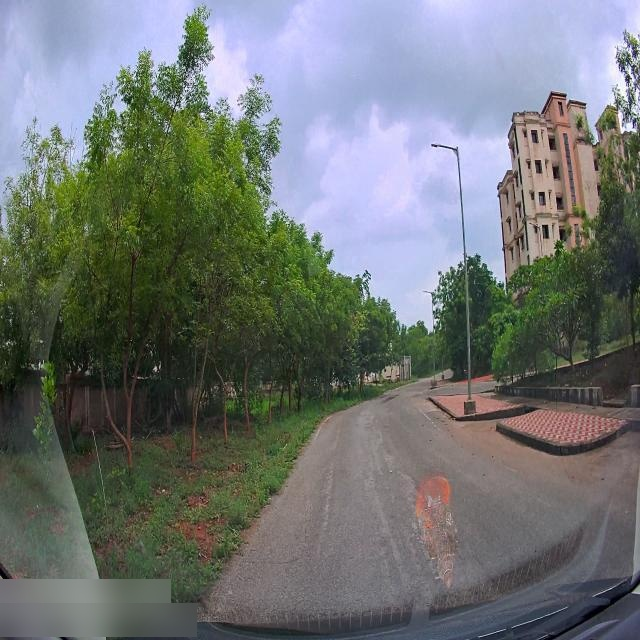pothole: (368, 472, 403, 585), (400, 459, 418, 505), (374, 420, 386, 453)
